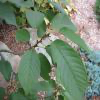Cherry leaf: (49, 37, 91, 99), (17, 48, 43, 96), (59, 26, 95, 59), (49, 12, 81, 34), (23, 8, 47, 32), (0, 3, 21, 29), (0, 55, 12, 83), (12, 28, 31, 44)
